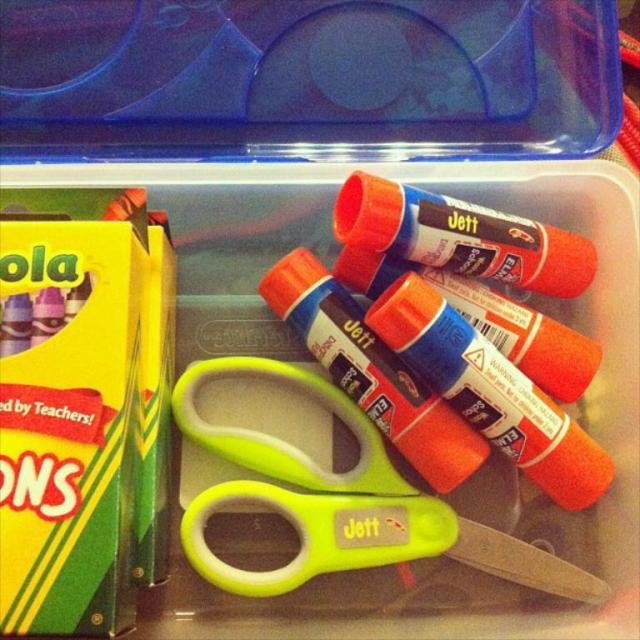scissor: (171, 356, 614, 610)
